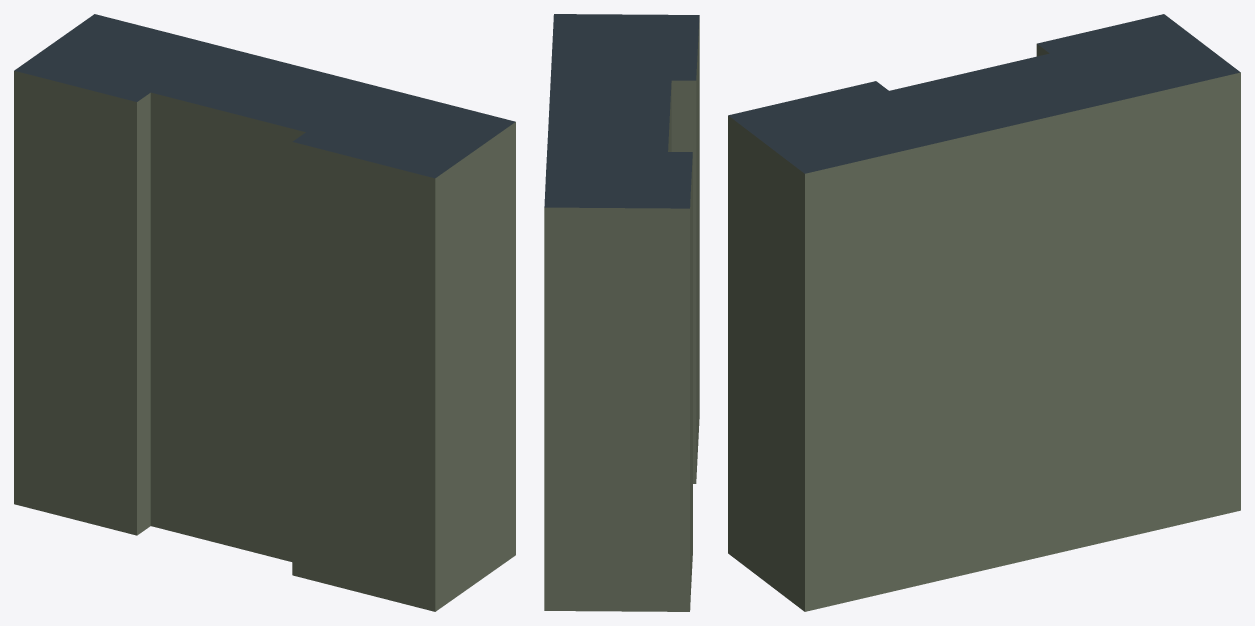
The model's file is nyc-1015248-0.glb.
3 views of the same model, side by side, from view 1: azimuth 30°, elevation 25°; view 2: azimuth 150°, elevation 25°; view 3: azimuth 270°, elevation 25° (orthographic). The views are drawn at different scales.
Parts seen in each view (by area): view 1: nyc-1015248-0; view 2: nyc-1015248-0; view 3: nyc-1015248-0.
Boxes of the visible parts, bbox=[...] form: nyc-1015248-0: bbox=[14, 14, 515, 611]; nyc-1015248-0: bbox=[544, 14, 699, 611]; nyc-1015248-0: bbox=[728, 14, 1240, 611].
Size of the model in its own units: 21.54 by 27.53 by 29.2.
